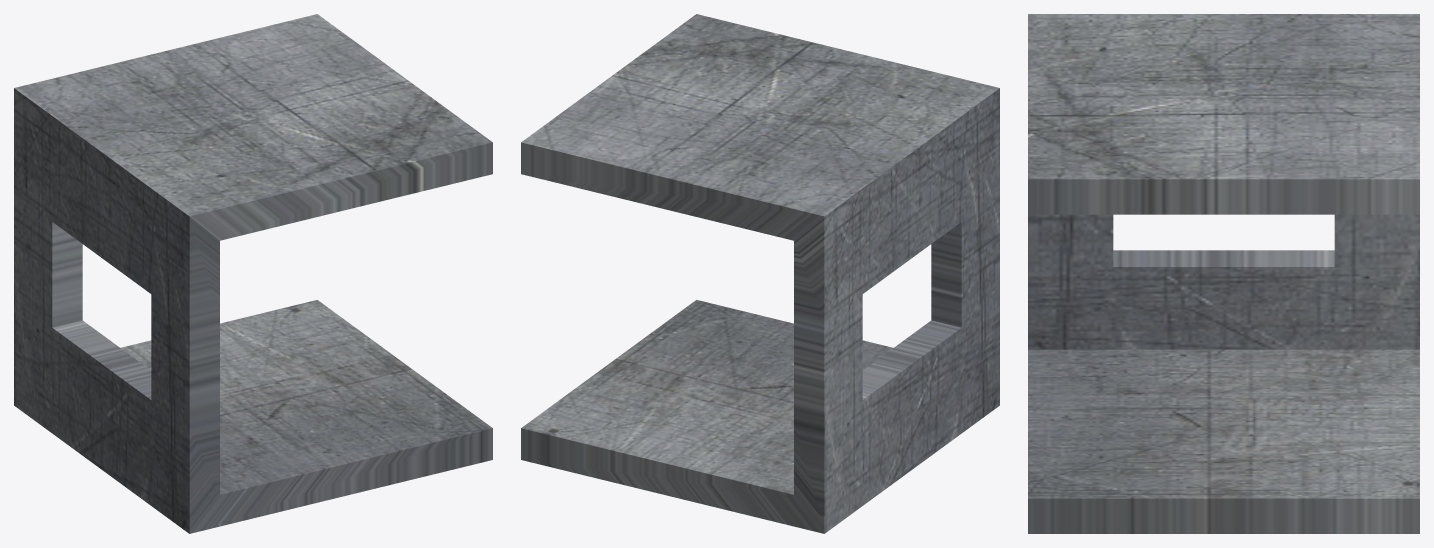
The model's file is TheOuterLevel.fbx_3x3_3PassWithWindow.fbx.
The picture shows the model from 3 angles, left to right: view 1: azimuth 30°, elevation 25°; view 2: azimuth 150°, elevation 25°; view 3: azimuth 270°, elevation 25°; orthographic projection. The views are drawn at different scales.
Parts seen in each view (by area): view 1: 3x3_3PassWithWindow; view 2: 3x3_3PassWithWindow; view 3: 3x3_3PassWithWindow.
Boxes of the visible parts, x1,y1,x2,y2 form: 3x3_3PassWithWindow: [14, 14, 492, 533]; 3x3_3PassWithWindow: [521, 14, 999, 533]; 3x3_3PassWithWindow: [1028, 14, 1419, 533].
Bounding box in the file's own units: 300 × 300 × 300.
Materials: 1 (1 with a texture image).
